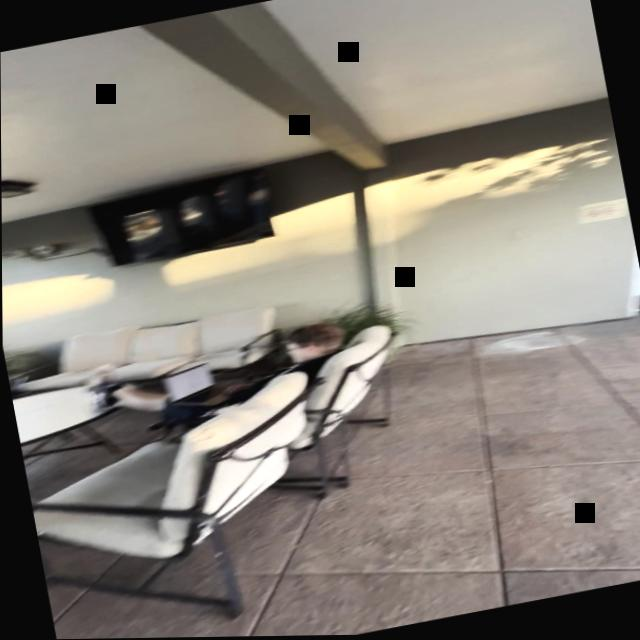NO-Mask: (281, 338, 314, 367)
